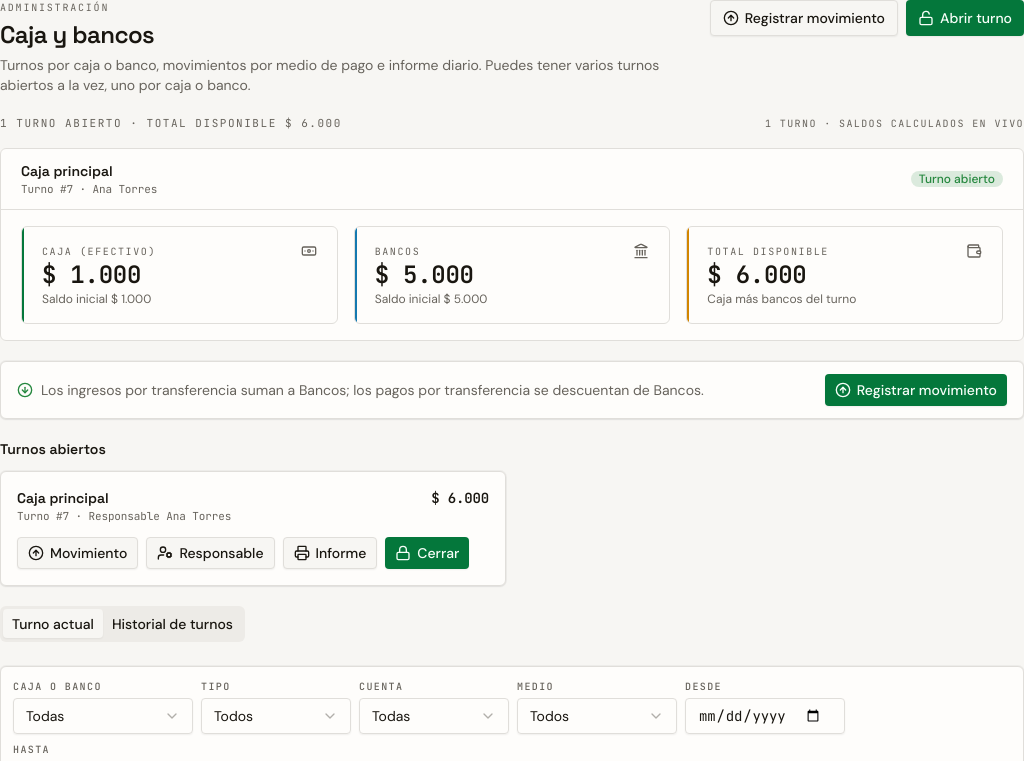
Test case: CajaBancosPage balance panel (characterization) › updates the displayed balance after a movement without closing the shift
This screenshot has width=1024, height=761.
Expected: the element with test id "caja.balances.register.1.cash" shows "$ 1.000", [42,259,141,290]
Click the button with test id "caja.register_movement_button".
click(804, 18)  # box [710,0,898,36]
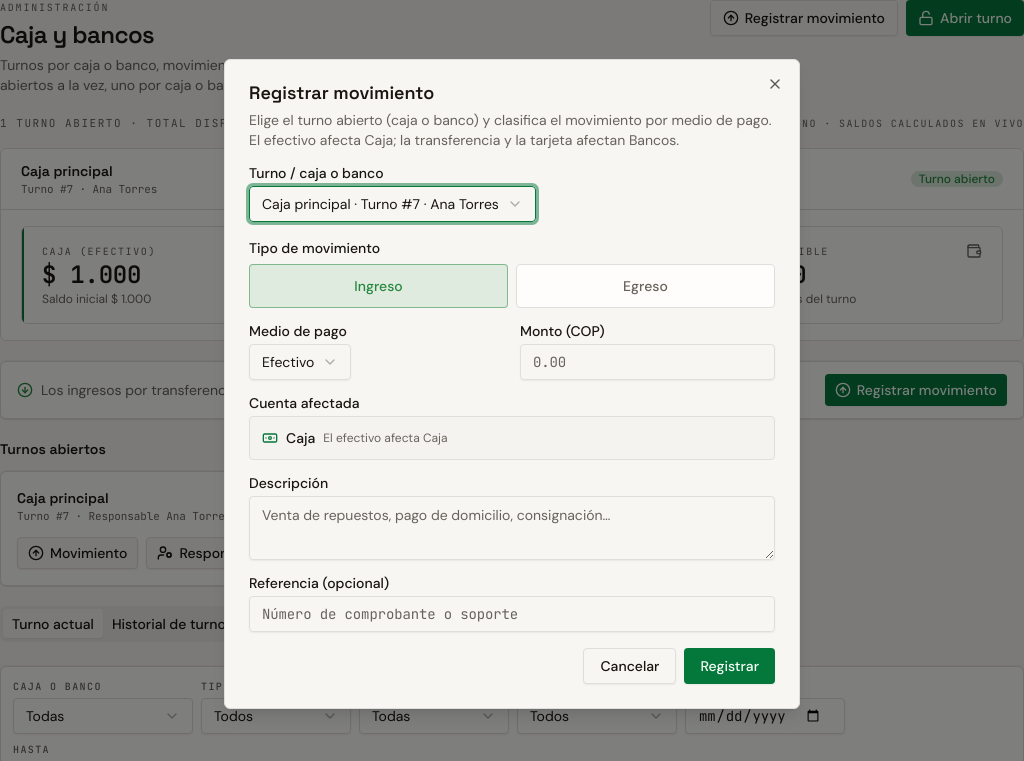
Type "500" into the field with test id "caja.movement.amount_input".
click(648, 362); type("500")  # box [520,344,775,380]
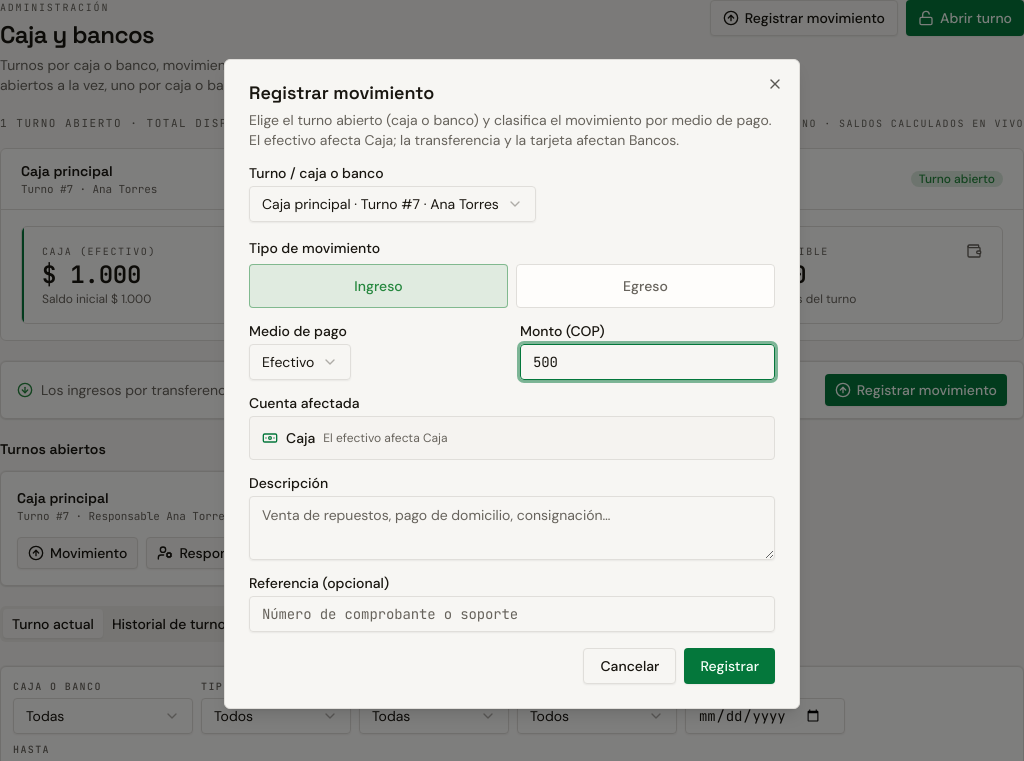
Type "Anticipo en efectivo" into the text box with test id "caja.movement.description_input".
click(512, 528); type("Anticipo en efectivo")  # box [249,496,775,560]
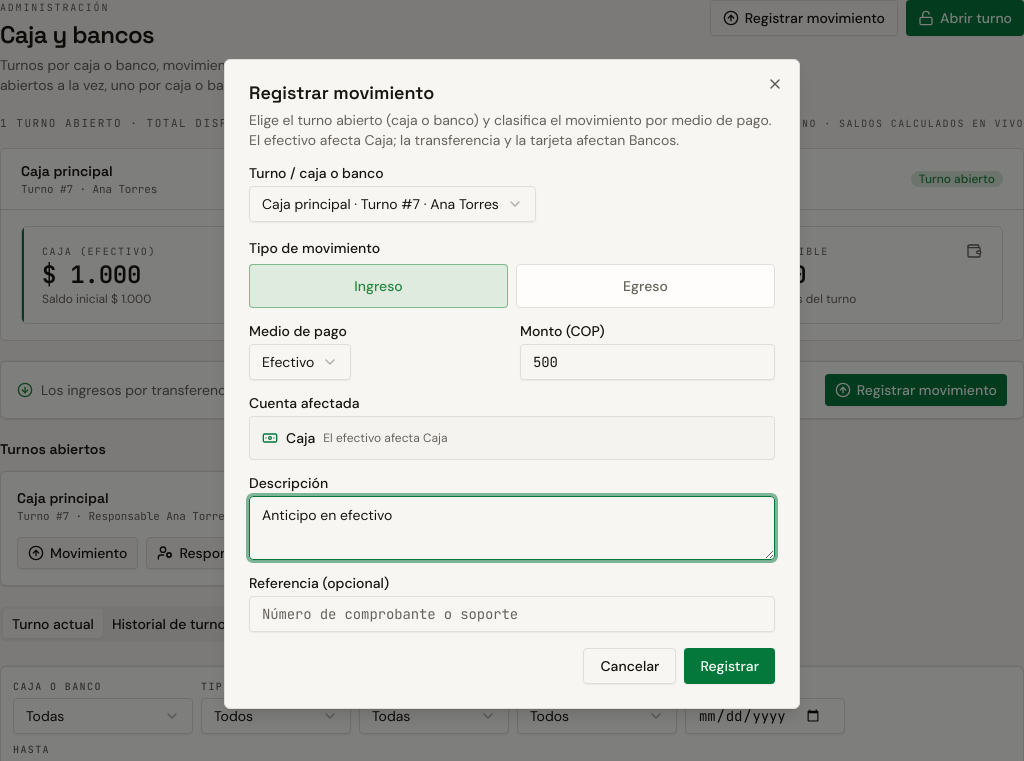
Click the button with test id "caja.movement.submit_button".
click(730, 666)  # box [684,648,775,684]
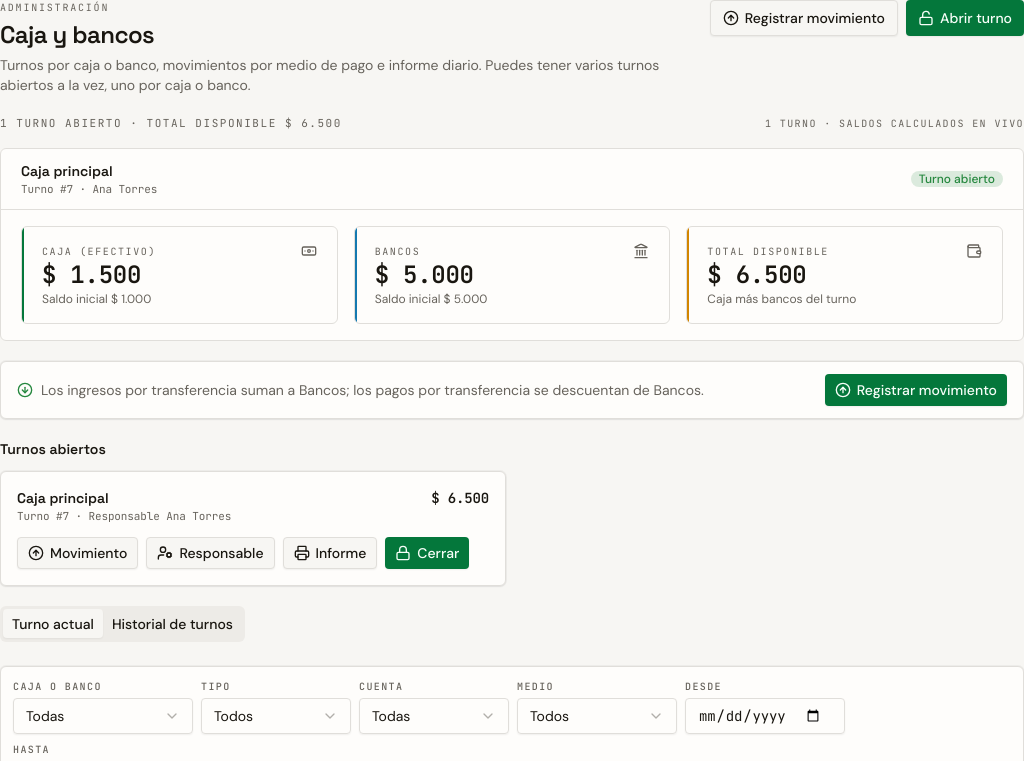
Expected: the element with test id "caja.balances.register.1" shows "Turno abierto", [919,171,995,187]
Result: the element with test id "caja.balances.register.1.cash" shows "$ 1.500" at [42,259,141,290]
